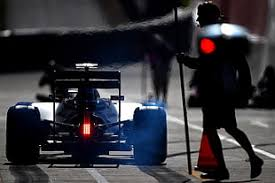FormulaOneCar: (5, 60, 171, 168)
